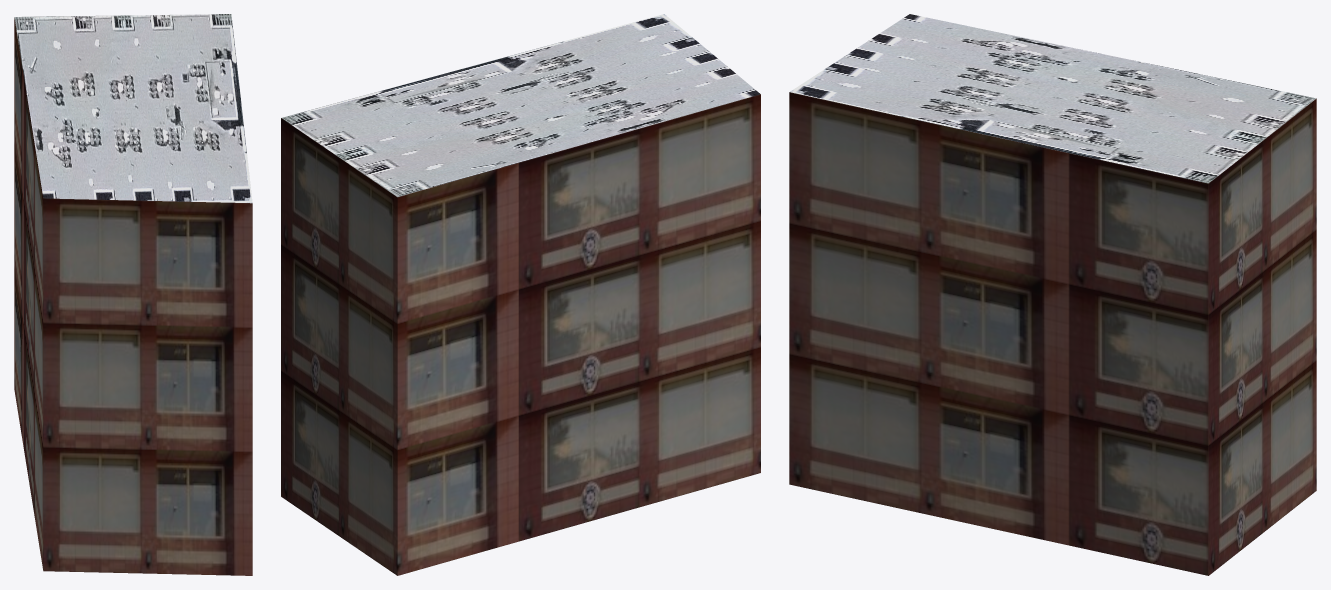
The model's file is ResTex__1058.fbx.
The picture shows the model from 3 angles, left to right: view 1: azimuth 30°, elevation 25°; view 2: azimuth 150°, elevation 25°; view 3: azimuth 270°, elevation 25°; orthographic projection. The views are drawn at different scales.
Visible parts, largest first — view 1: CityEngineMaterial_13_m, CityEngineMaterial_8_m; view 2: CityEngineMaterial_13_m, CityEngineMaterial_8_m; view 3: CityEngineMaterial_13_m, CityEngineMaterial_8_m.
Boxes of the visible parts, x1,y1,x2,y2 form: CityEngineMaterial_13_m: (14,18,252,575); CityEngineMaterial_8_m: (14,14,252,203); CityEngineMaterial_13_m: (281,94,760,575); CityEngineMaterial_8_m: (281,14,760,196); CityEngineMaterial_13_m: (789,92,1316,575); CityEngineMaterial_8_m: (790,14,1315,183).
Bounding box in the file's own units: 8.34 × 9 × 10.96.
2 materials, 2 textured.
